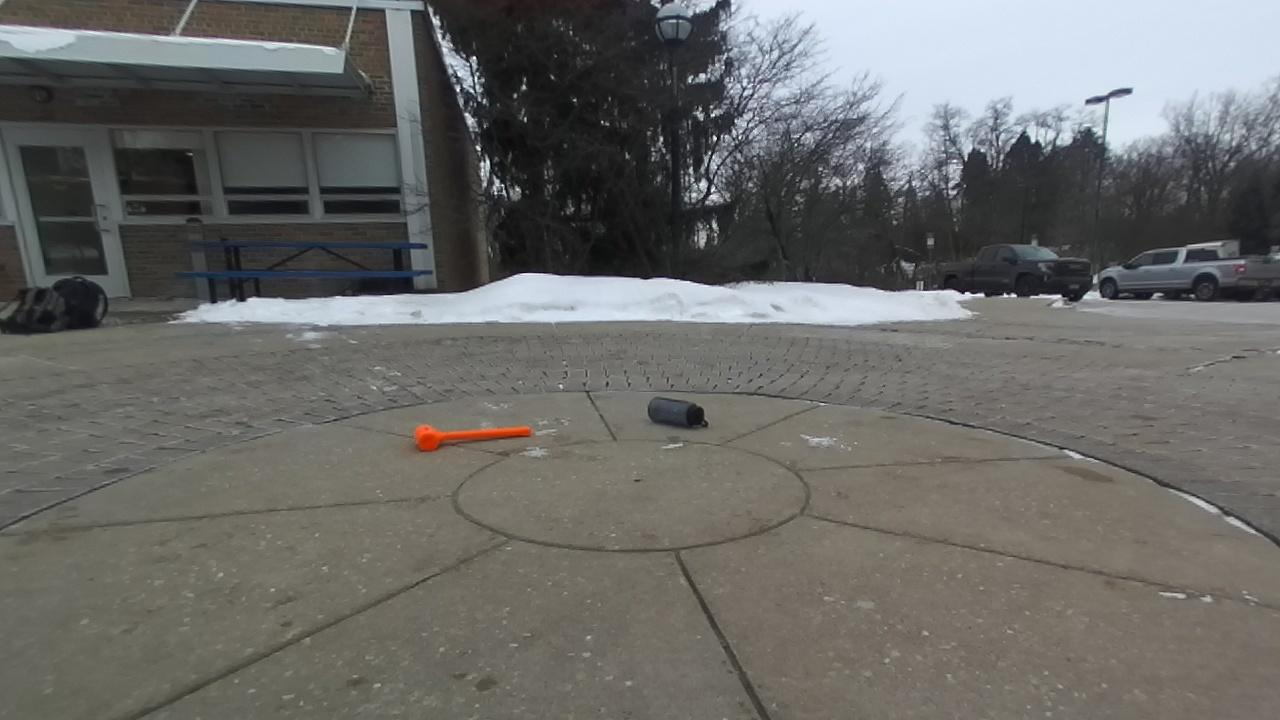bottle: (648, 397, 707, 427)
mallet: (415, 425, 531, 451)
